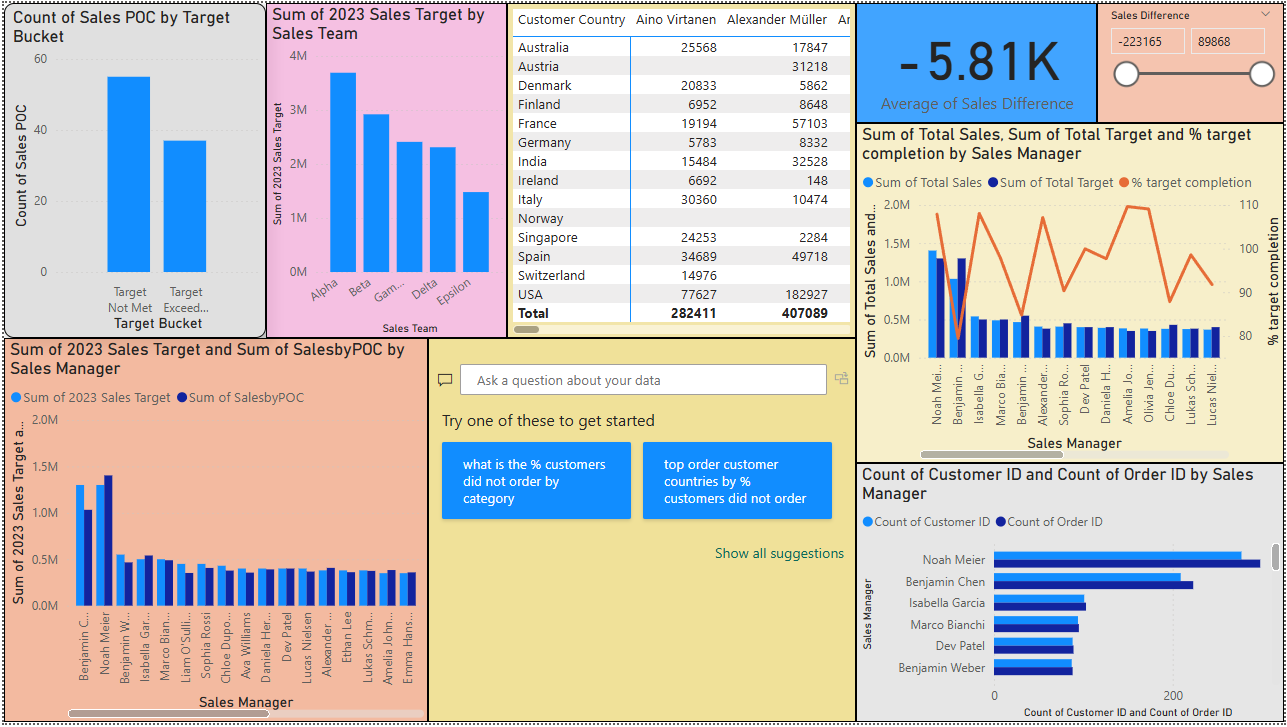

The page's visual inventory and layout, read from the dashboard file:
{"tool":"powerbi","page":{"name":"Sales Team","canvas":[1280,720],"ordinal":0},"visuals":[{"type":"clusteredColumnChart","fields":{"Y":["Sales Targets.Sales POC"],"Category":["Sales Targets.Target Bucket"]},"box":[0,0,262,334.6],"z":0},{"type":"columnChart","fields":{"Category":["Sales Targets.Sales Team"],"Y":["Sales Targets.2023 Sales Target"]},"box":[262,0,240.8,334.6],"z":1000},{"type":"clusteredColumnChart","fields":{"Category":["Sales Targets.Sales Manager"],"Y":["Sales Targets.2023 Sales Target","Sales Targets.SalesbyPOC"]},"box":[0,334.6,424,384.6],"z":2000},{"type":"card","fields":{"Values":["Sales Targets.Sales Difference"]},"box":[852.5,0,240.8,119.6],"z":3000},{"type":"slicer","fields":{"Values":["Sales Targets.Sales Difference"]},"box":[1093.3,0,186.2,119.6],"z":4000},{"type":"lineClusteredColumnComboChart","fields":{"Category":["Sales Manager Target Completion.Sales Manager"],"Y2":["Sales Manager Target Completion.% target completion"],"Y":["Sales Manager Target Completion.Total Sales","Sales Manager Target Completion.Total Target"]},"box":[852.5,119.6,427,340.7],"z":5000},{"type":"pivotTable","fields":{"Rows":["Customers.Customer Country"],"Columns":["Orders.Sales Manager"],"Values":["Orders.Order Value"]},"box":[502.7,0,349.8,334.6],"z":6000},{"type":"clusteredBarChart","fields":{"Category":["Orders.Sales Manager"],"Y":["Orders.Customer ID","Orders.Order ID"]},"box":[852.5,460.3,427,258.9],"z":7000},{"type":"qnaVisual","box":[424,334.6,428.5,384.6],"z":8000}]}

Visuals, with their boxes in screenshot pixels (x1, y1, x2, y2), scaled from the page's 1280x720 canvas onto the 1287x727 screenshot:
clusteredColumnChart - Sales Targets.Sales POC x Sales Targets.Target Bucket: x1=0, y1=0, x2=263, y2=338
columnChart - Sales Targets.Sales Team x Sales Targets.2023 Sales Target: x1=263, y1=0, x2=506, y2=338
clusteredColumnChart - Sales Targets.Sales Manager x Sales Targets.2023 Sales Target: x1=0, y1=338, x2=426, y2=726
card - Sales Targets.Sales Difference: x1=857, y1=0, x2=1099, y2=121
slicer - Sales Targets.Sales Difference: x1=1099, y1=0, x2=1286, y2=121
lineClusteredColumnComboChart - Sales Manager Target Completion.Sales Manager x Sales Manager Target Completion.% target completion: x1=857, y1=121, x2=1286, y2=465
pivotTable - Customers.Customer Country x Orders.Sales Manager: x1=505, y1=0, x2=857, y2=338
clusteredBarChart - Orders.Sales Manager x Orders.Customer ID: x1=857, y1=465, x2=1286, y2=726
qnaVisual: x1=426, y1=338, x2=857, y2=726
